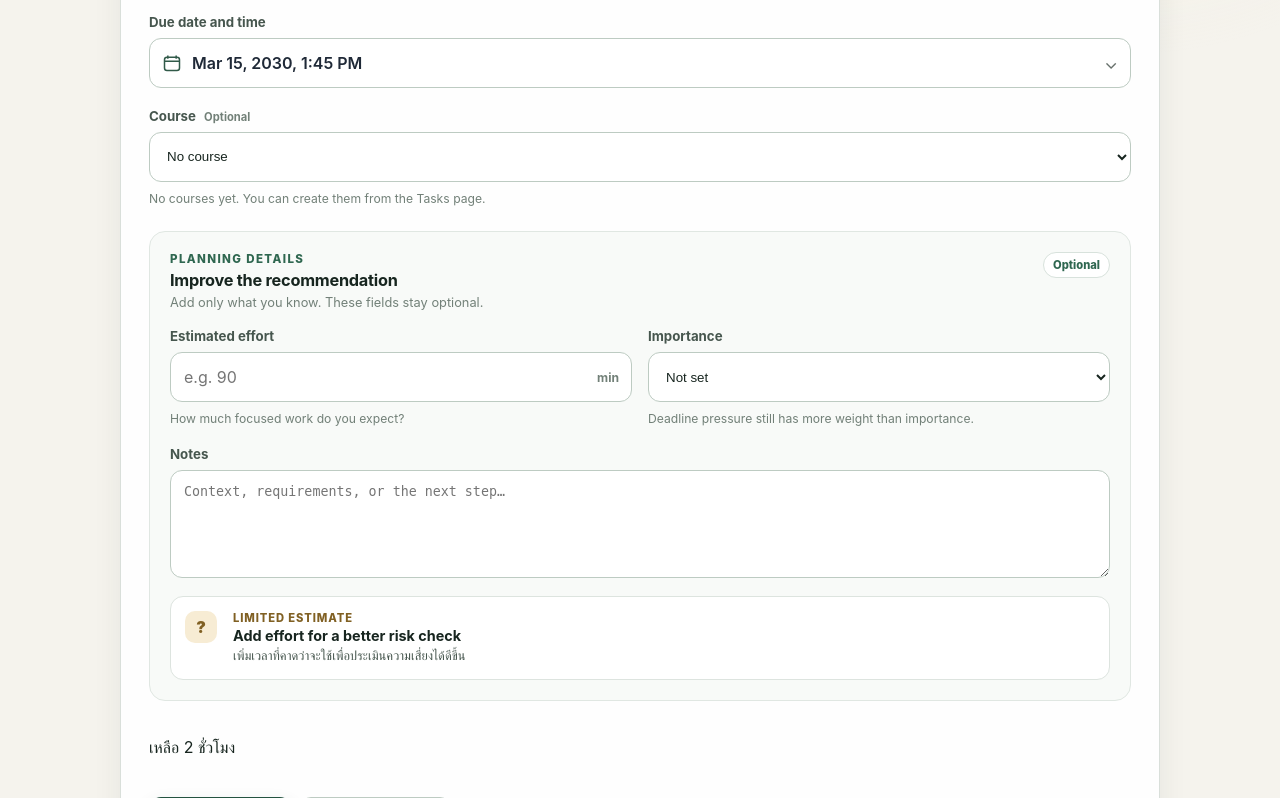
Scenario: Task lifecycle flow › adds and clears optional planning details while showing backend risk
(page scrolled)
Check: the text "Add effort for a better risk check" is shown, box [233, 627, 461, 644]
Type "180" into the number field labelled "Estimated effort". click: (401, 377)
box: [170, 352, 632, 402]
Select "High" in the dropdown labelled "Importance". click: (879, 377)
box: [648, 352, 1110, 402]
Type "Split the report into sections" into the text box labelled "Notes". click: (640, 524)
box: [170, 470, 1110, 578]
(page scrolled)
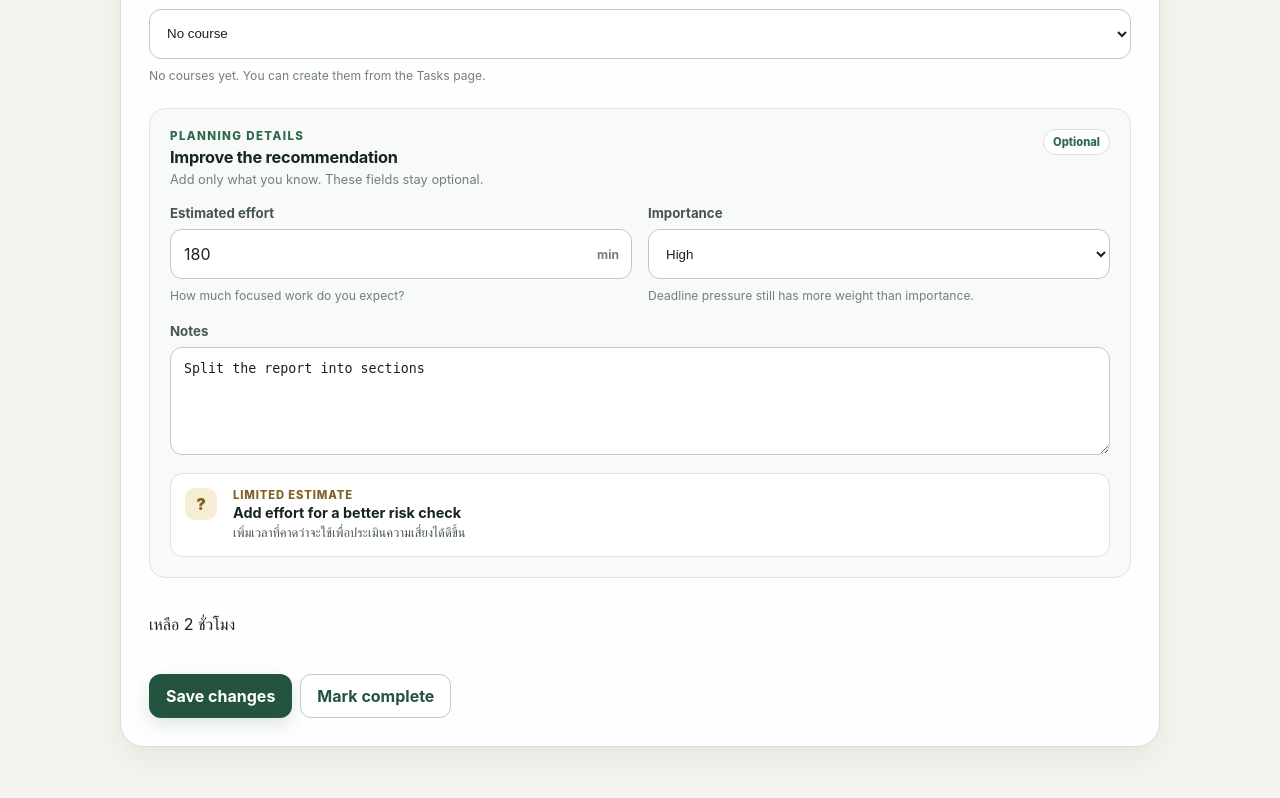
Click the button "Save changes". click: (221, 696)
box: [149, 674, 292, 718]
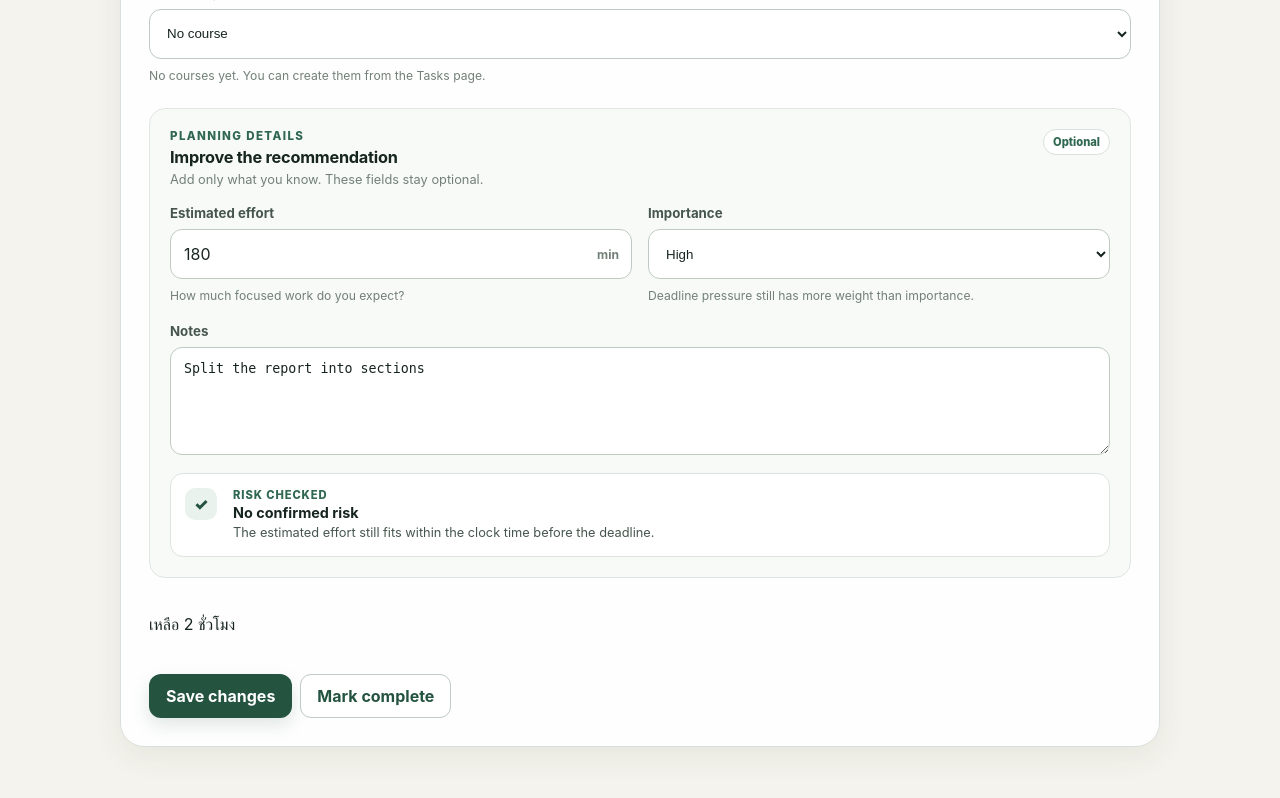
Check: the text "No confirmed risk" is shown, box [233, 504, 359, 521]
Clear the number field labelled "Estimated effort". click: (401, 254)
box: [170, 229, 632, 279]
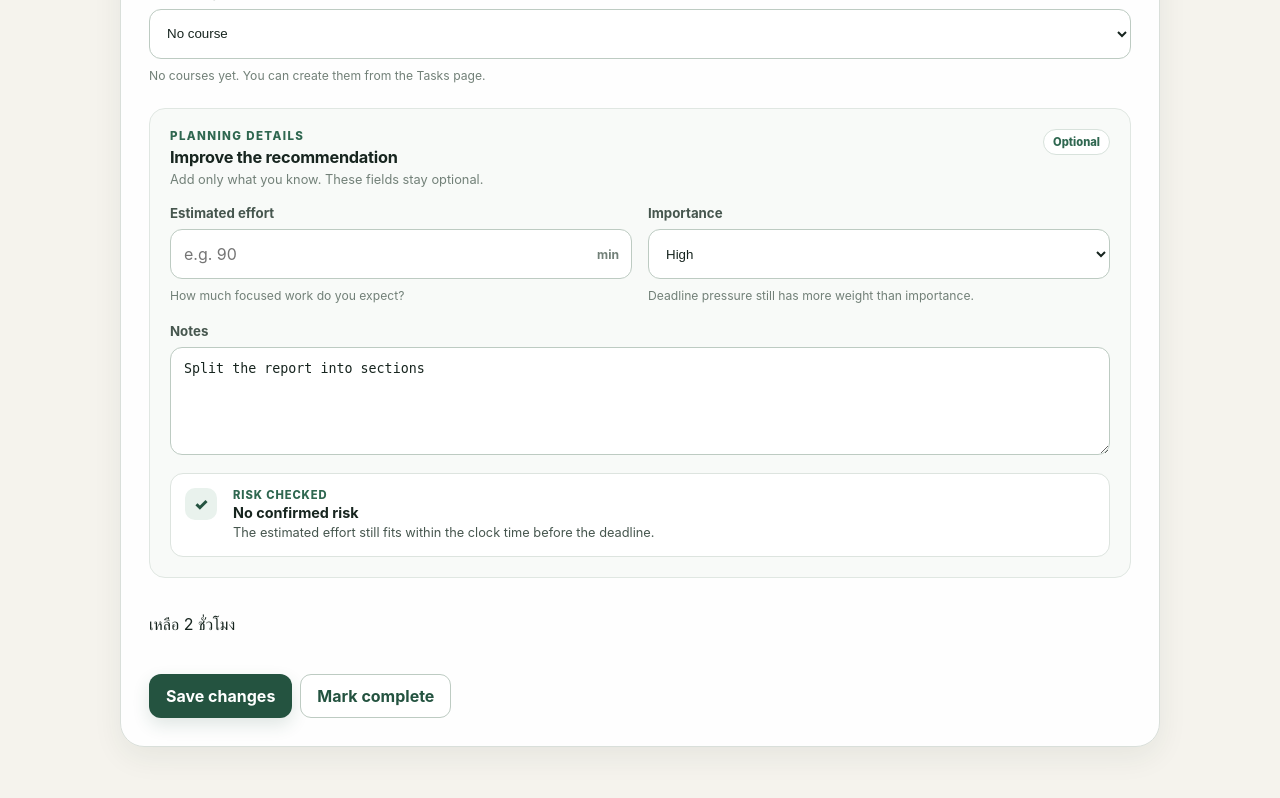
Select "Not set" in the dropdown labelled "Importance". click: (879, 254)
box: [648, 229, 1110, 279]
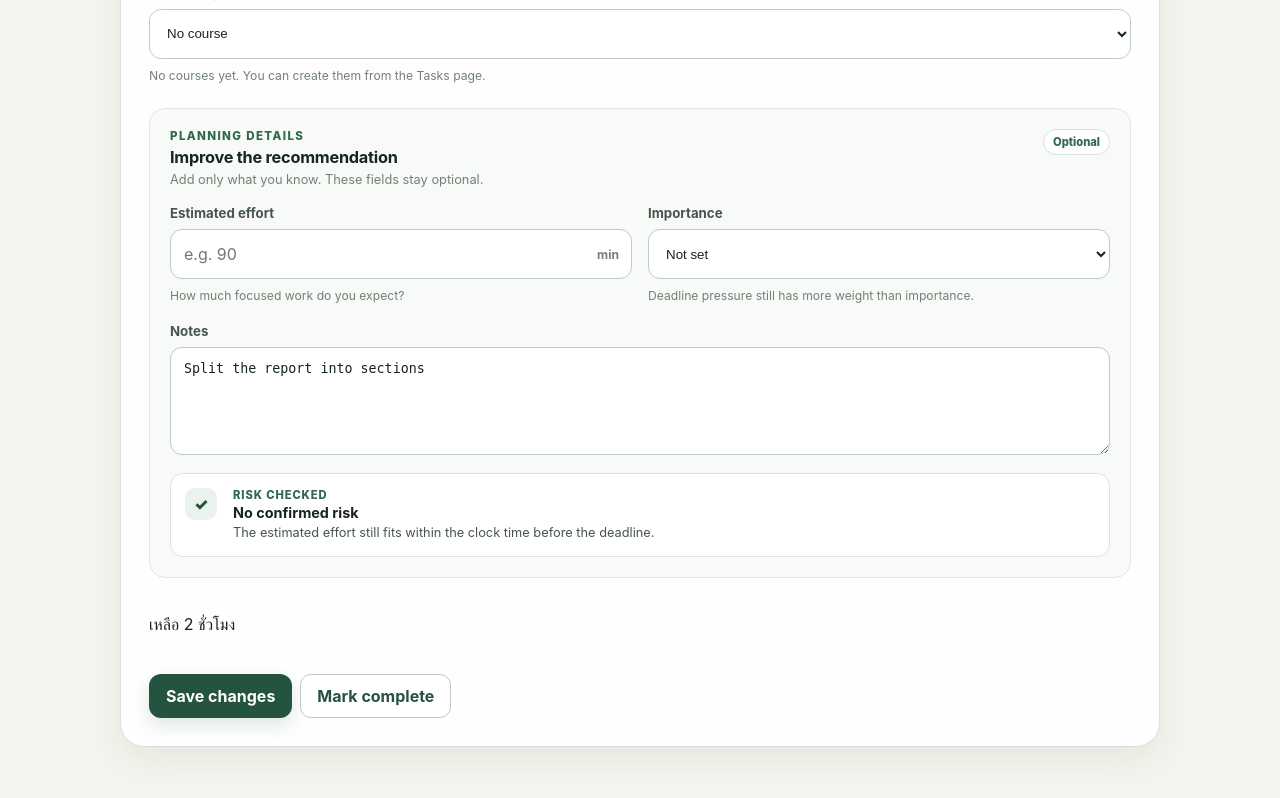
Clear the text box labelled "Notes". click: (640, 401)
box: [170, 347, 1110, 455]
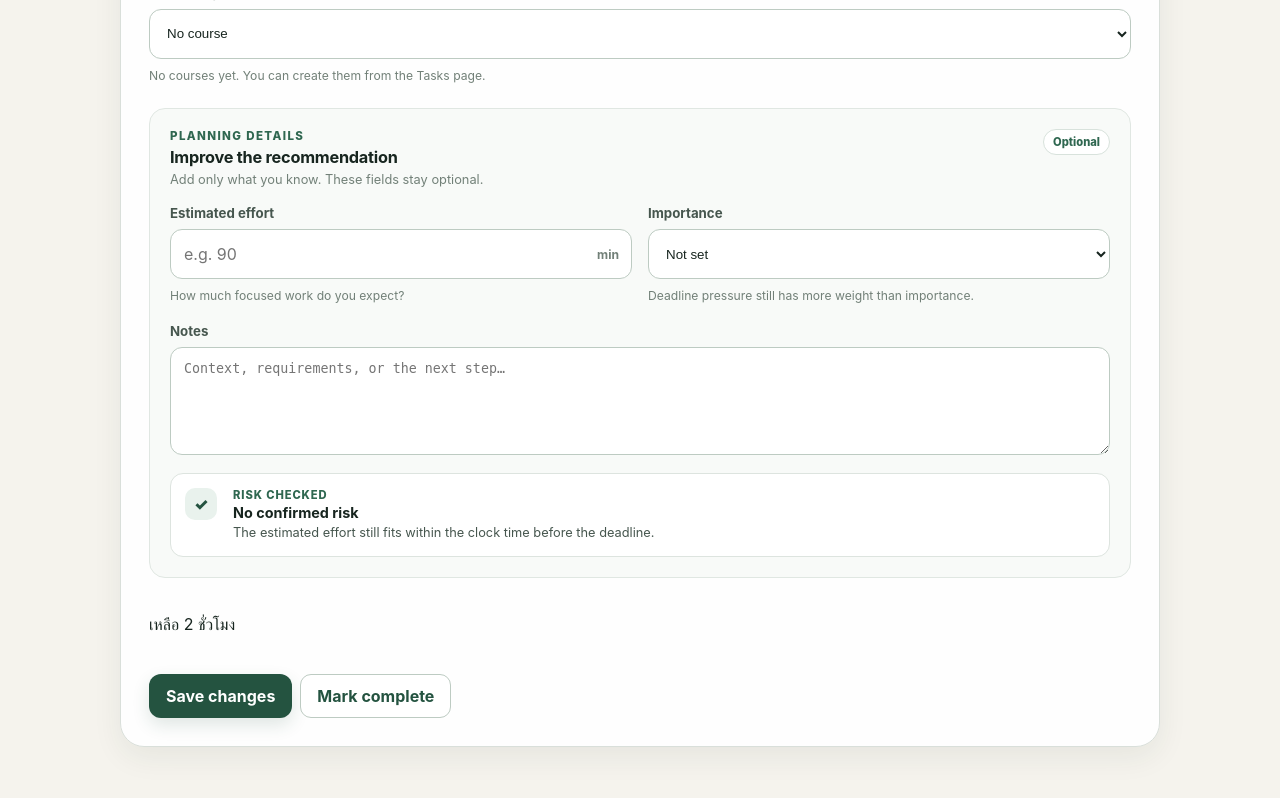
Click the button "Save changes". click: (221, 696)
box: [149, 674, 292, 718]
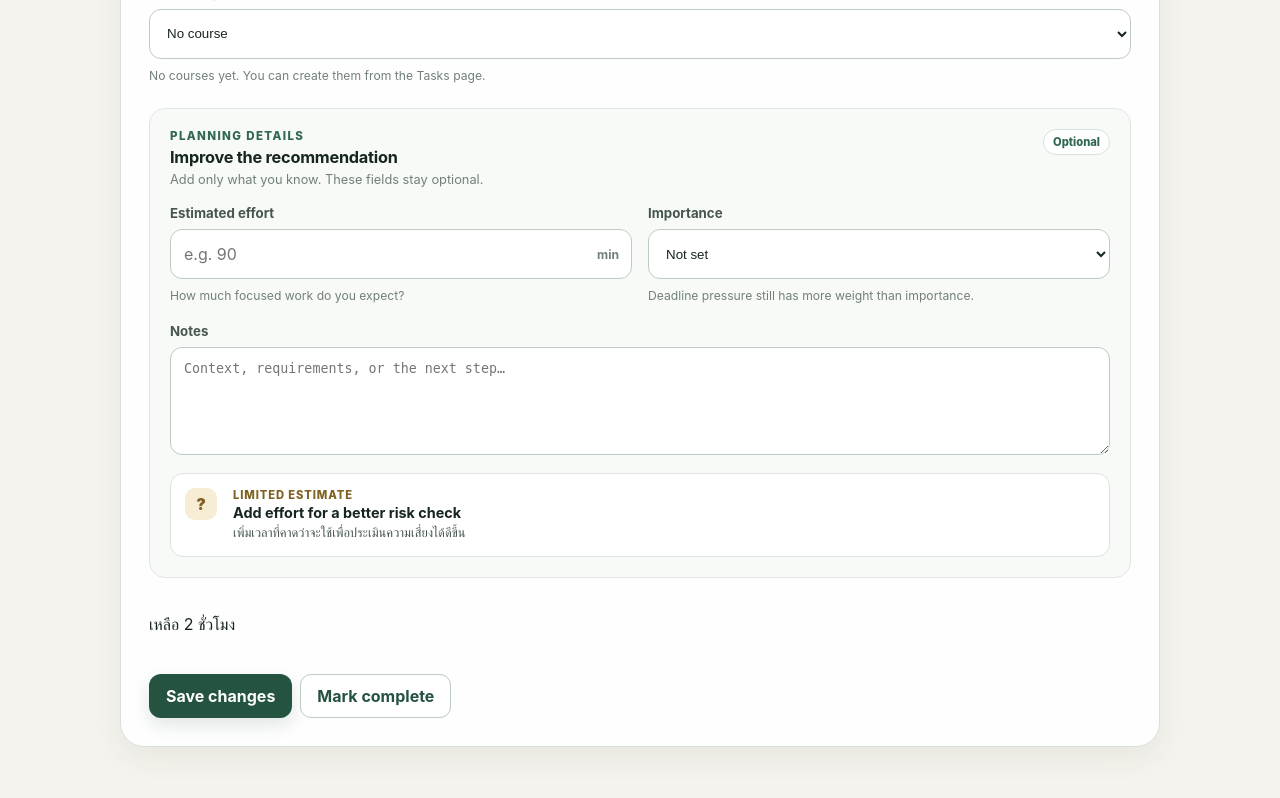
Check: the text "Add effort for a better risk check" is shown, box [233, 504, 461, 521]
